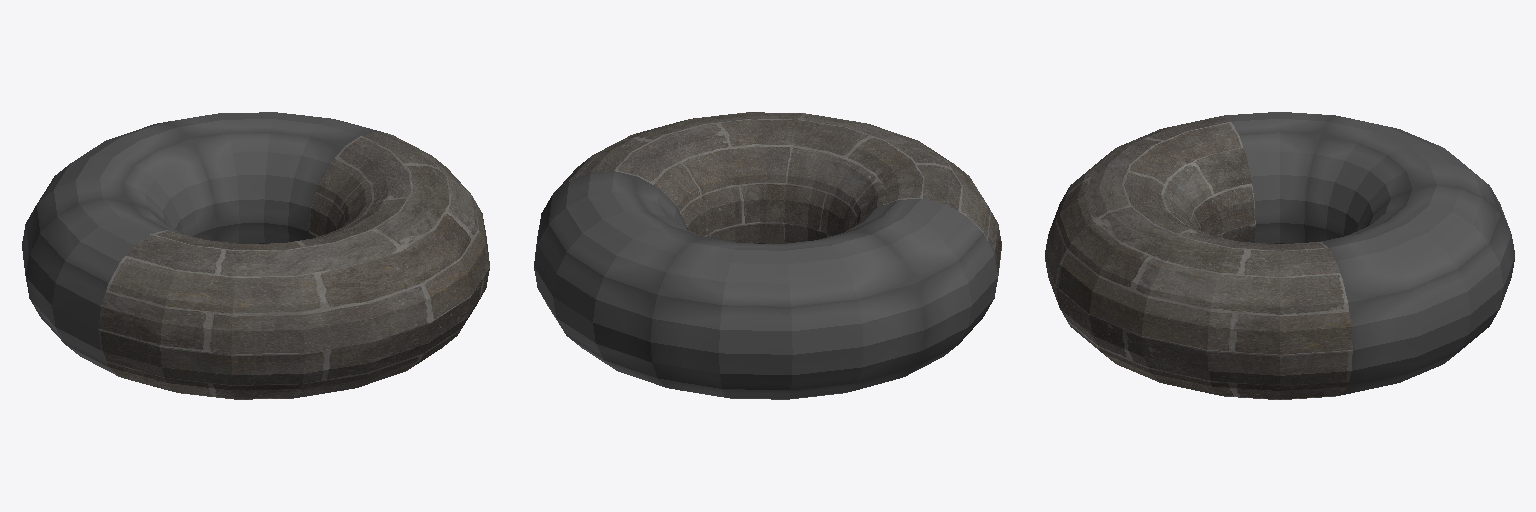
The picture shows the model from 3 angles: view 1: azimuth 30°, elevation 25°; view 2: azimuth 150°, elevation 25°; view 3: azimuth 270°, elevation 25°; orthographic projection.
Bounding box in the file's own units: 3 × 1 × 3.
2 materials, 2 textured.